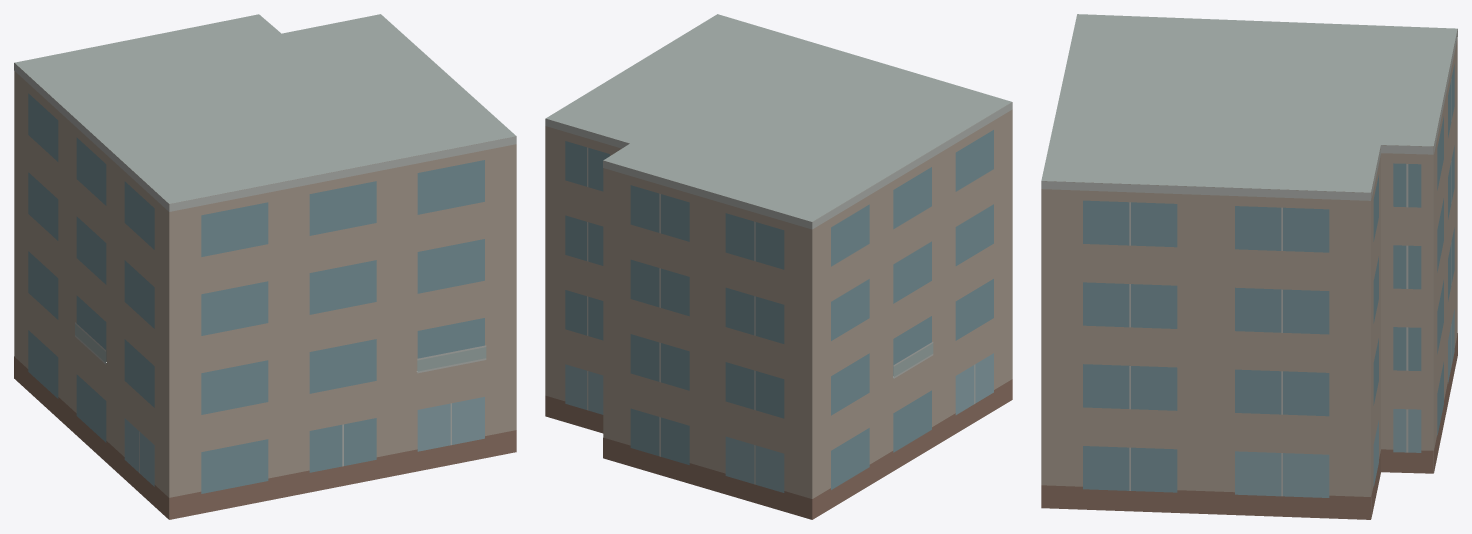
File: survey-upis-32531131.glb
The picture shows the model from 3 angles, left to right: view 1: azimuth 30°, elevation 25°; view 2: azimuth 150°, elevation 25°; view 3: azimuth 270°, elevation 25°; orthographic projection. The views are drawn at different scales.
Visible parts, largest first — view 1: survey-upis-32531131.tmp; view 2: survey-upis-32531131.tmp; view 3: survey-upis-32531131.tmp.
Part boxes in pixels (<box>): survey-upis-32531131.tmp: <box>14,14,516,519</box>; survey-upis-32531131.tmp: <box>545,14,1012,519</box>; survey-upis-32531131.tmp: <box>1041,14,1457,519</box>.
Size of the model in its own units: 11.41 by 9.73 by 11.23.
